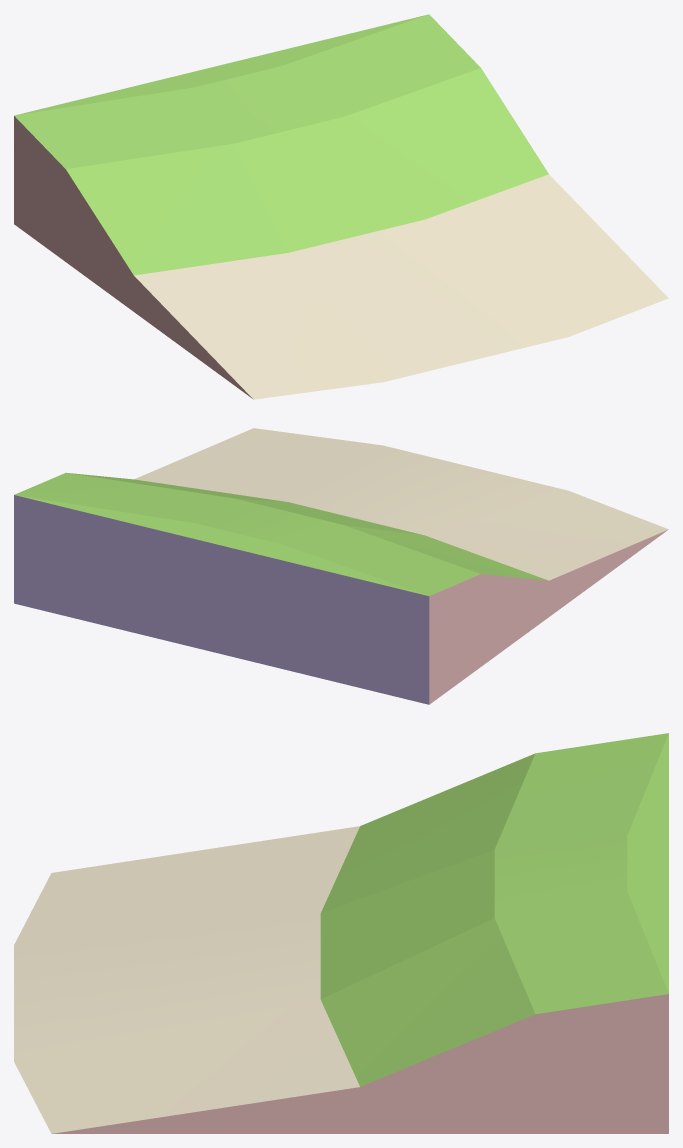
The model's file is Path_Terrain_Deformed_Straight_Convex_1x1.fbx.
3 renders of one model, top to bottom at view 1: azimuth 30°, elevation 25°; view 2: azimuth 150°, elevation 25°; view 3: azimuth 270°, elevation 25°, orthographic. The views are drawn at different scales.
Parts seen in each view (by area): view 1: Path_Terrain_Deformed_Straight_Convex_1x1; view 2: Path_Terrain_Deformed_Straight_Convex_1x1; view 3: Path_Terrain_Deformed_Straight_Convex_1x1.
Part boxes in pixels (left/top/right/bottom): Path_Terrain_Deformed_Straight_Convex_1x1: left=14, top=14, right=668, bottom=399; Path_Terrain_Deformed_Straight_Convex_1x1: left=14, top=428, right=668, bottom=704; Path_Terrain_Deformed_Straight_Convex_1x1: left=14, top=733, right=668, bottom=1133.
Size of the model in its own units: 100 by 25 by 106.
